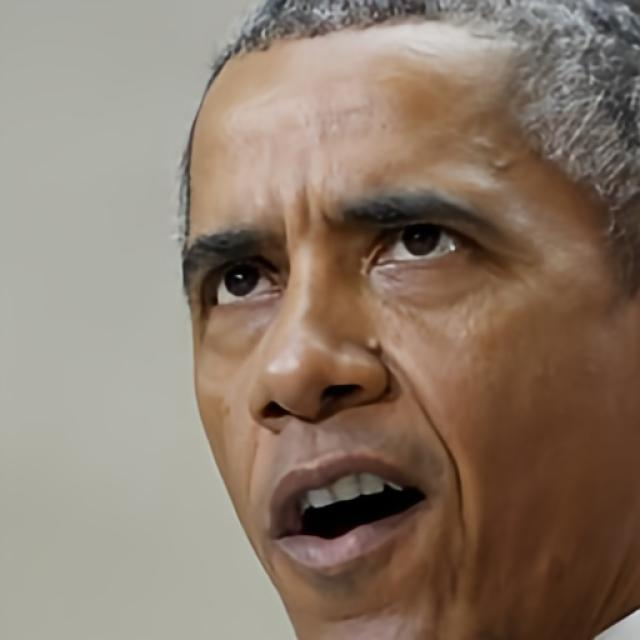anger: (182, 30, 622, 629)
